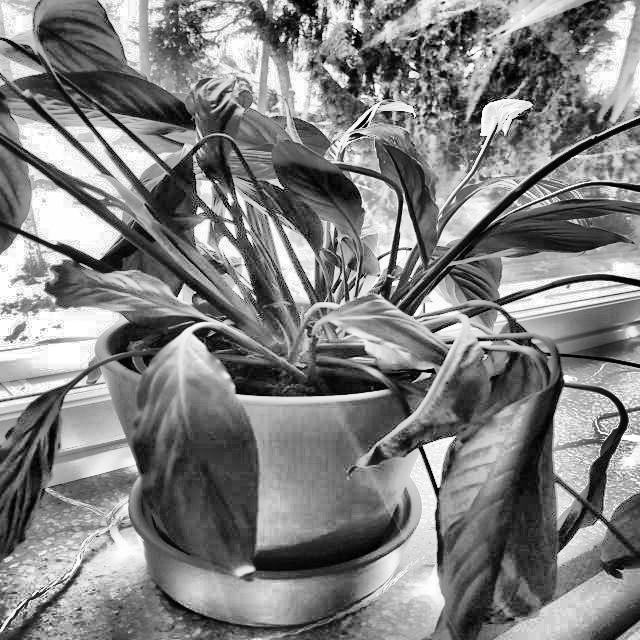plants: (6, 1, 640, 640), (411, 297, 639, 639), (418, 250, 516, 336), (352, 319, 416, 376)
